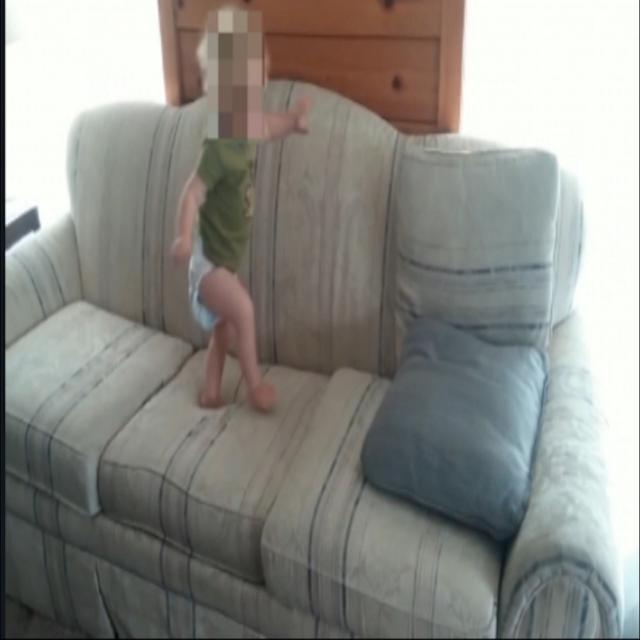child: (162, 18, 305, 417)
